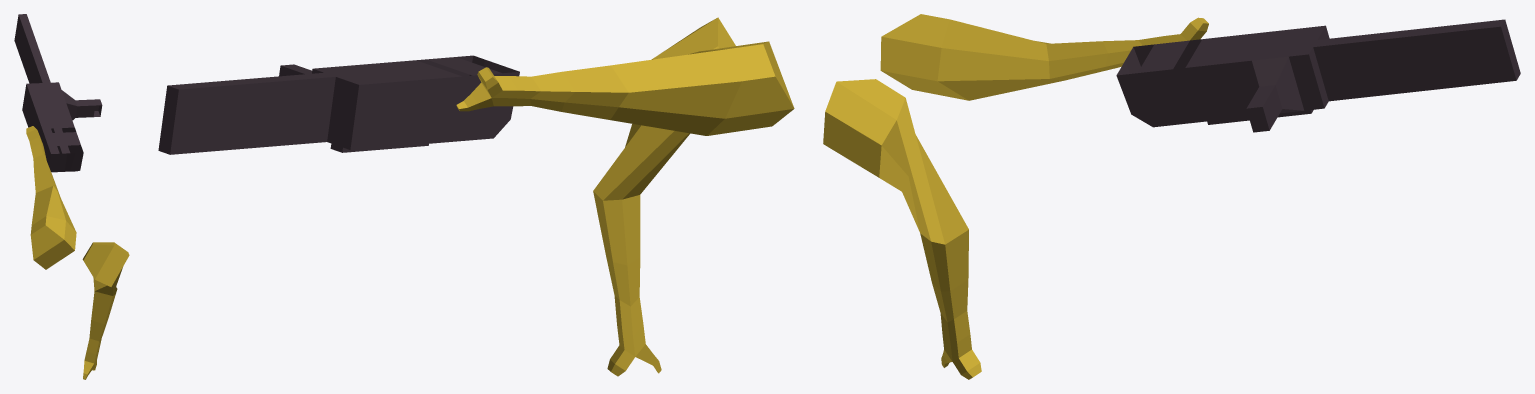
Rendered from arme_000163.obj.
3 views of the same model, side by side, from view 1: azimuth 30°, elevation 25°; view 2: azimuth 150°, elevation 25°; view 3: azimuth 270°, elevation 25° (orthographic). The views are drawn at different scales.
Parts seen in each view (by area): view 1: Cube.048_Cube.024, Cube.046_Cube.010; view 2: Cube.048_Cube.024, Cube.046_Cube.010; view 3: Cube.048_Cube.024, Cube.046_Cube.010.
Part boxes in pixels (x1,y1,x2,y2): Cube.048_Cube.024: [26, 126, 129, 379]; Cube.046_Cube.010: [14, 14, 102, 172]; Cube.048_Cube.024: [456, 17, 794, 376]; Cube.046_Cube.010: [158, 55, 519, 154]; Cube.048_Cube.024: [823, 14, 1208, 379]; Cube.046_Cube.010: [1116, 19, 1520, 132].
Size of the model in its own units: 1224 by 1679 by 2494.
